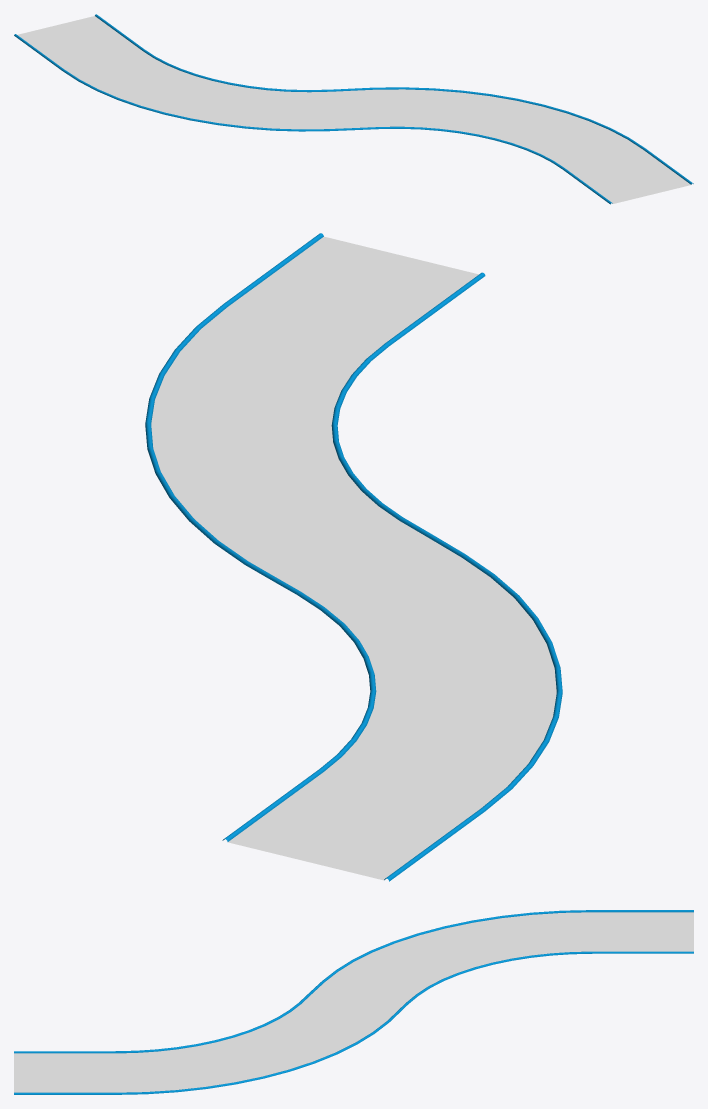
File: Ground Large Curved Left.fbx
The picture shows the model from 3 angles, top to bottom: view 1: azimuth 30°, elevation 25°; view 2: azimuth 150°, elevation 25°; view 3: azimuth 270°, elevation 25°; orthographic projection. The views are drawn at different scales.
Visible parts, largest first — view 1: Ground Large Curved Left; view 2: Ground Large Curved Left; view 3: Ground Large Curved Left.
Part boxes in pixels (x1,y1,x2,y2): Ground Large Curved Left: (14,14,693,204); Ground Large Curved Left: (145,233,562,881); Ground Large Curved Left: (14,910,693,1094).
Size of the model in its own units: 8.58 by 0.0311 by 13.4.
